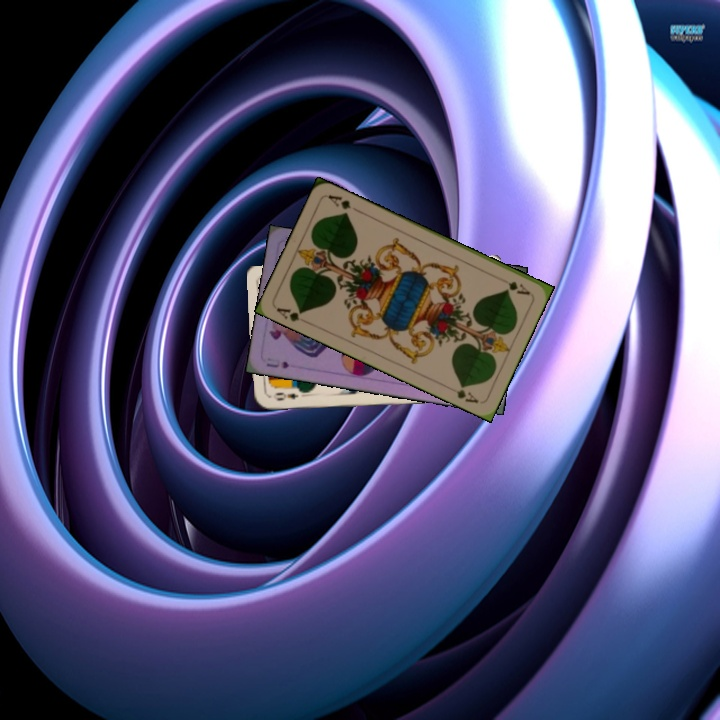EO: (271, 388, 301, 403)
GA: (495, 273, 532, 297), (272, 303, 307, 324)
SU: (262, 354, 292, 372)
